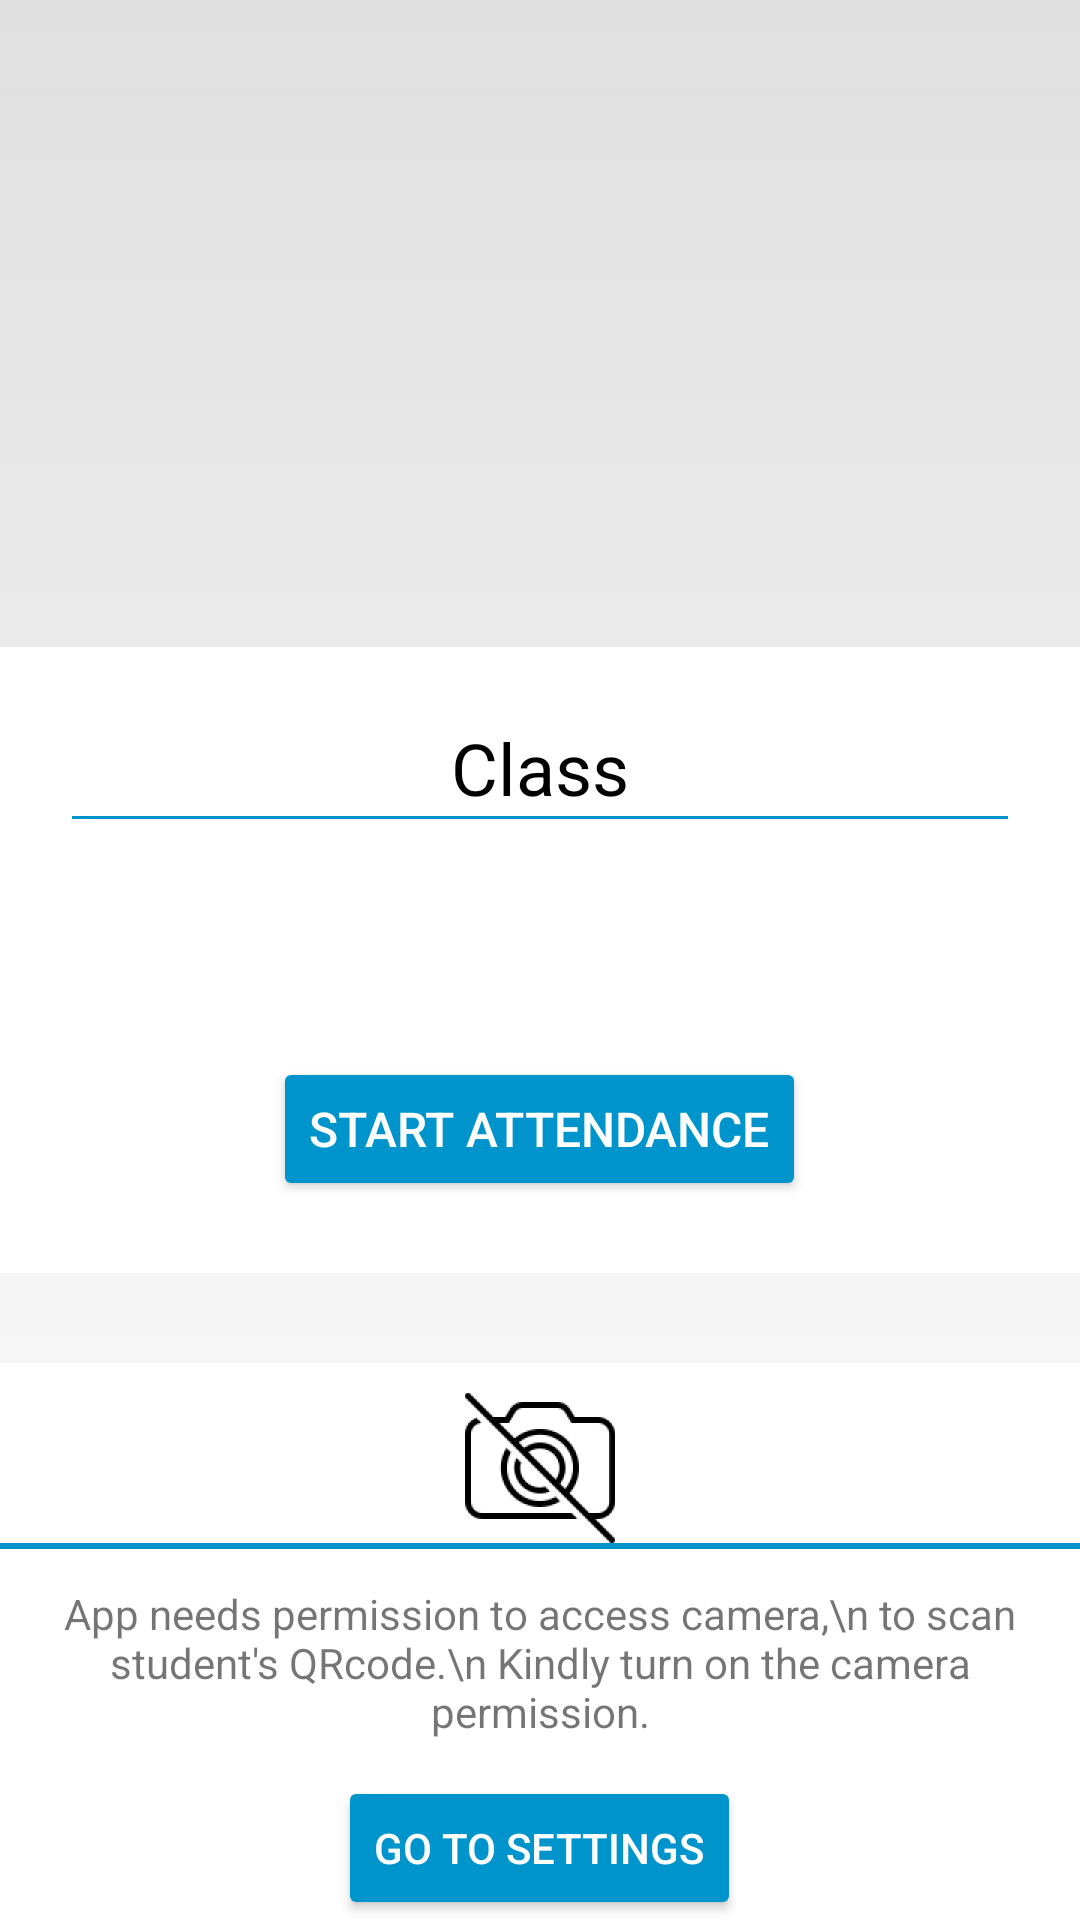

Icon click points for this 1080px x 1920px phone screenshot, format [x,y]:
no camera: [540,1468]
